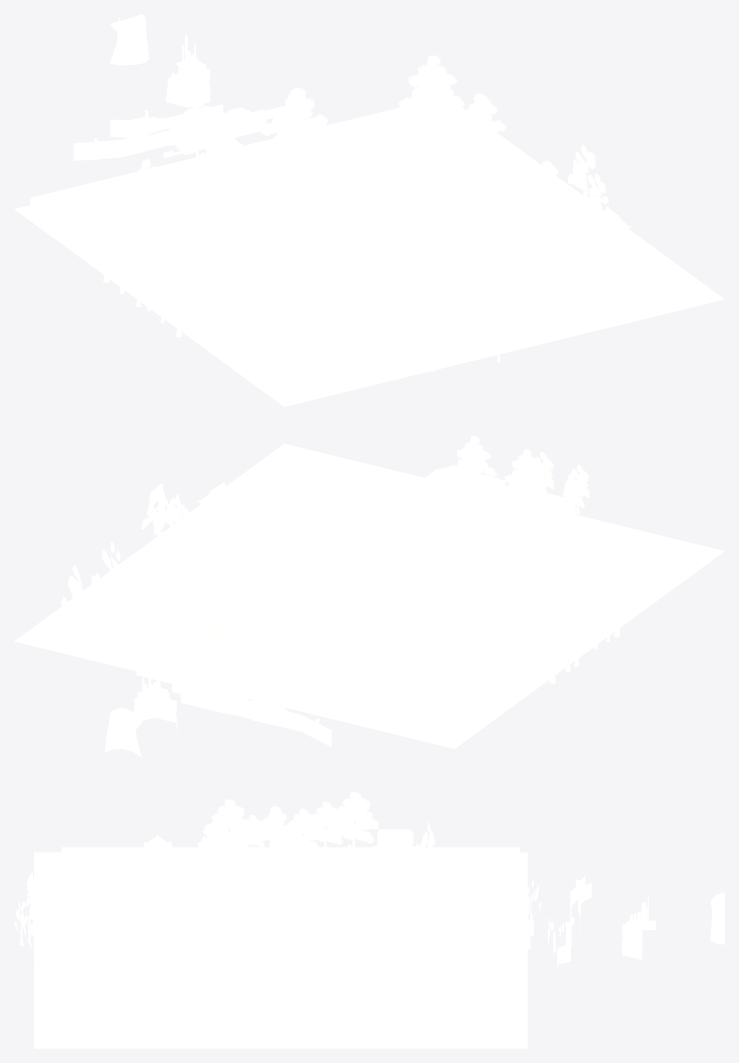
Rendered from stage.glb.
3 views of the same model, one above another, from view 1: azimuth 30°, elevation 25°; view 2: azimuth 150°, elevation 25°; view 3: azimuth 270°, elevation 25° (orthographic). The views are drawn at different scales.
Parts seen in each view (by area): view 1: KORE_export_5_Building01A_1_0_0, KORE_export_5_Floor01A_1_0_0, KORE_export_7_Trees_1_0_0; view 2: KORE_export_5_Building01A_1_0_0, KORE_export_5_Floor01A_1_0_0, KORE_export_7_Trees_1_0_0; view 3: KORE_export_5_Floor01A_1_0_0, KORE_export_5_Building01A_1_0_0, KORE_export_7_Trees_1_0_0.
Boxes of the visible parts, box(x1,y1,x2,y2) form: KORE_export_5_Building01A_1_0_0: box(30, 14, 688, 392); KORE_export_5_Floor01A_1_0_0: box(14, 103, 724, 406); KORE_export_7_Trees_1_0_0: box(94, 55, 608, 371); KORE_export_5_Building01A_1_0_0: box(39, 448, 697, 760); KORE_export_5_Floor01A_1_0_0: box(14, 443, 724, 748); KORE_export_7_Trees_1_0_0: box(60, 436, 645, 700); KORE_export_5_Floor01A_1_0_0: box(34, 852, 527, 1048); KORE_export_5_Building01A_1_0_0: box(37, 828, 724, 1041); KORE_export_7_Trees_1_0_0: box(14, 791, 541, 1045).
Bounding box in the file's own units: 12.33 × 2.18 × 18.
3 materials, 3 textured.
